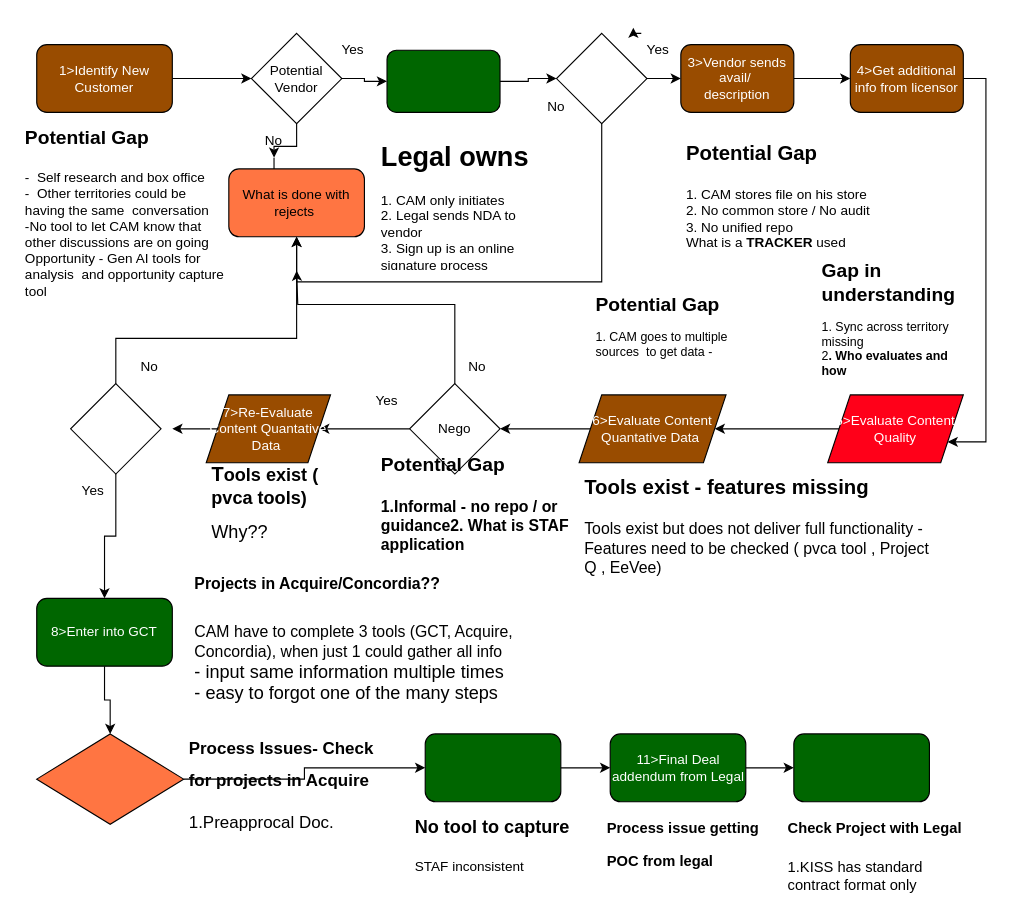
The diagram is 1015 pixels wide and 923 high, and some of its shapes have lost their labels. Each missing label, with the box of its shape:
10>Formal Bid / Commercial Nego: (424, 733, 561, 802)
12>Legal Nego: (793, 733, 929, 802)
2>Initiate NDA in contract Central: (386, 49, 500, 112)
9>Preapproval / approval: (36, 733, 184, 824)
All Good: (69, 383, 161, 474)
NDA Signed: (555, 32, 647, 124)
